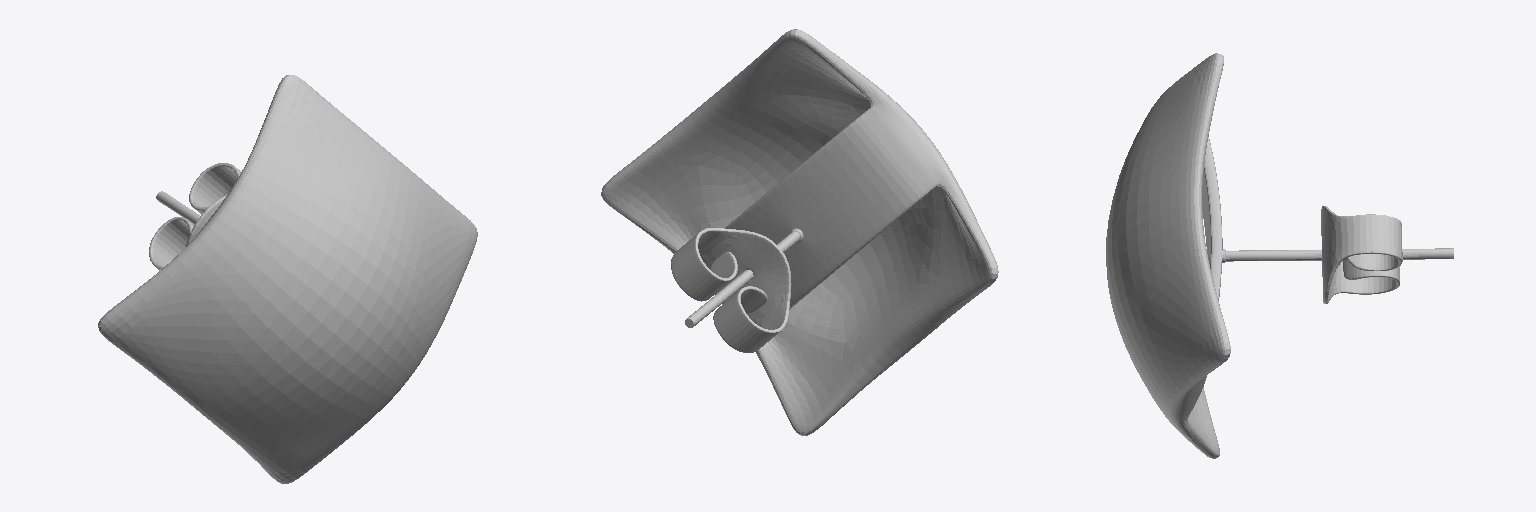
The model's file is earring_1.obj.
3 views of the same model, side by side, from view 1: azimuth 30°, elevation 25°; view 2: azimuth 150°, elevation 25°; view 3: azimuth 270°, elevation 25° (orthographic).
Visible parts, largest first — view 1: earring_1.002; view 2: earring_1.002; view 3: earring_1.002.
Part boxes in pixels (x1,y1,x2,y2): earring_1.002: (98,75,477,483); earring_1.002: (601,29,998,435); earring_1.002: (1106,53,1453,458).
Bounding box in the file's own units: 16.96 × 16.98 × 13.19.